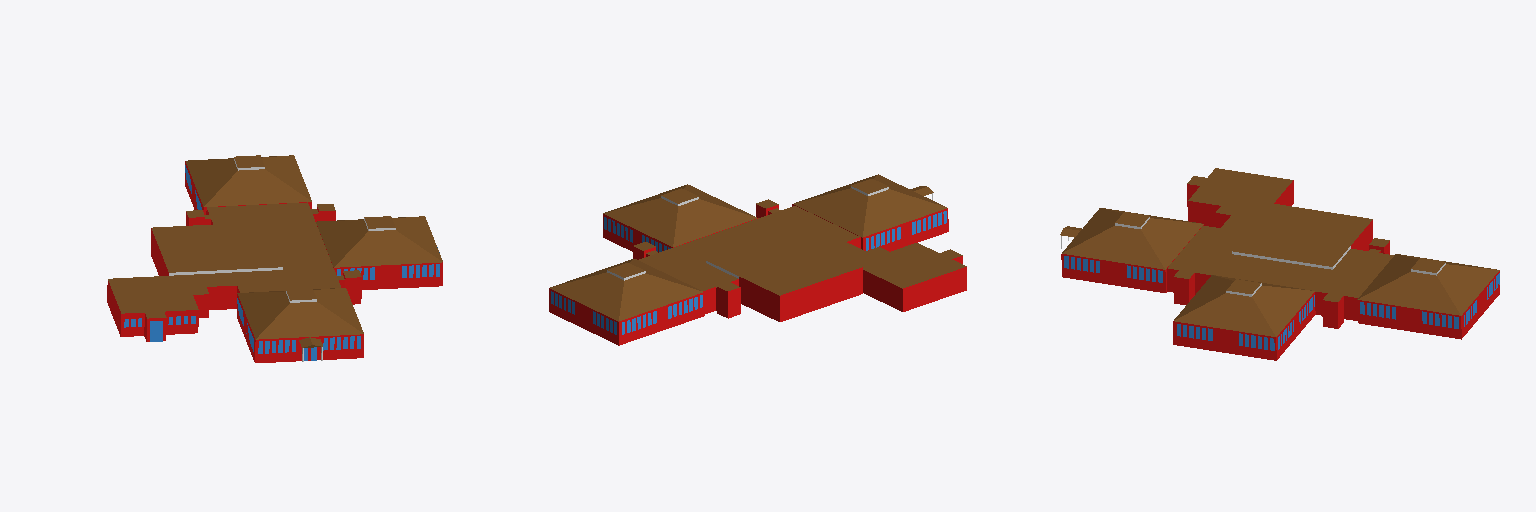
The model's file is TrueGrits.obj.
The picture shows the model from 3 angles: view 1: azimuth 30°, elevation 25°; view 2: azimuth 150°, elevation 25°; view 3: azimuth 270°, elevation 25°; orthographic projection.
Visible parts, largest first — view 1: SM_TrueGrits_Bldg, SM_TrueGrits_Wndws; view 2: SM_TrueGrits_Bldg, SM_TrueGrits_Wndws; view 3: SM_TrueGrits_Bldg, SM_TrueGrits_Wndws.
Boxes of the visible parts, x1=… form: SM_TrueGrits_Bldg: x1=107, y1=155, x2=442, y2=362; SM_TrueGrits_Wndws: x1=124, y1=165, x2=439, y2=361; SM_TrueGrits_Bldg: x1=549, y1=174, x2=966, y2=345; SM_TrueGrits_Wndws: x1=551, y1=186, x2=946, y2=334; SM_TrueGrits_Bldg: x1=1061, y1=168, x2=1499, y2=360; SM_TrueGrits_Wndws: x1=1060, y1=226, x2=1499, y2=350.
Size of the model in its own units: 7666 by 1042 by 8741.